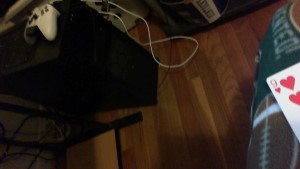NineOfHearts: (264, 58, 300, 144)
